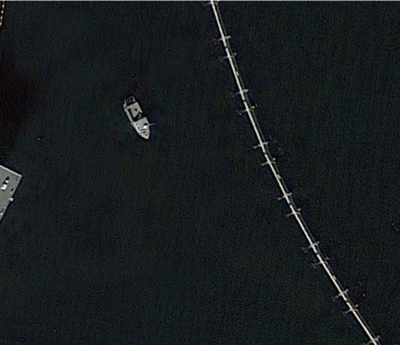boat: (123, 95, 153, 141)
